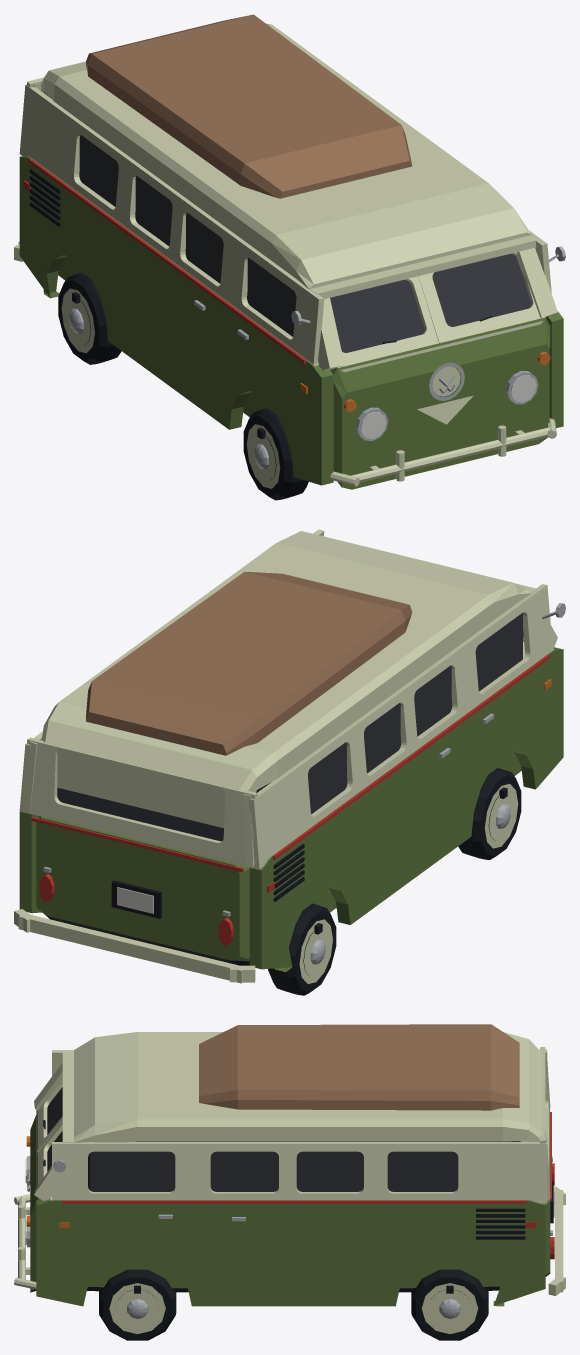
The model's file is camper-van-8d10e2-preview.glb.
3 views of the same model, one above another, from view 1: azimuth 30°, elevation 25°; view 2: azimuth 150°, elevation 25°; view 3: azimuth 270°, elevation 25° (orthographic). The views are drawn at different scales.
Parts seen in each view (by area): view 1: object 1, wheel-fl, wheel-rl; view 2: object 1, wheel-rl, wheel-fl; view 3: object 1, wheel-fr, wheel-rr.
Part boxes in pixels (x1=…): object 1: x1=14, y1=14, x2=565, y2=489; wheel-fl: x1=243, y1=408, x2=308, y2=500; wheel-rl: x1=58, y1=272, x2=121, y2=364; object 1: x1=14, y1=529, x2=565, y2=983; wheel-rl: x1=268, y1=903, x2=336, y2=995; wheel-fl: x1=458, y1=768, x2=521, y2=859; object 1: x1=14, y1=1024, x2=565, y2=1306; wheel-fr: x1=99, y1=1269, x2=176, y2=1340; wheel-rr: x1=411, y1=1269, x2=488, y2=1340.
Size of the model in its own units: 2.2 by 2.22 by 4.68.
